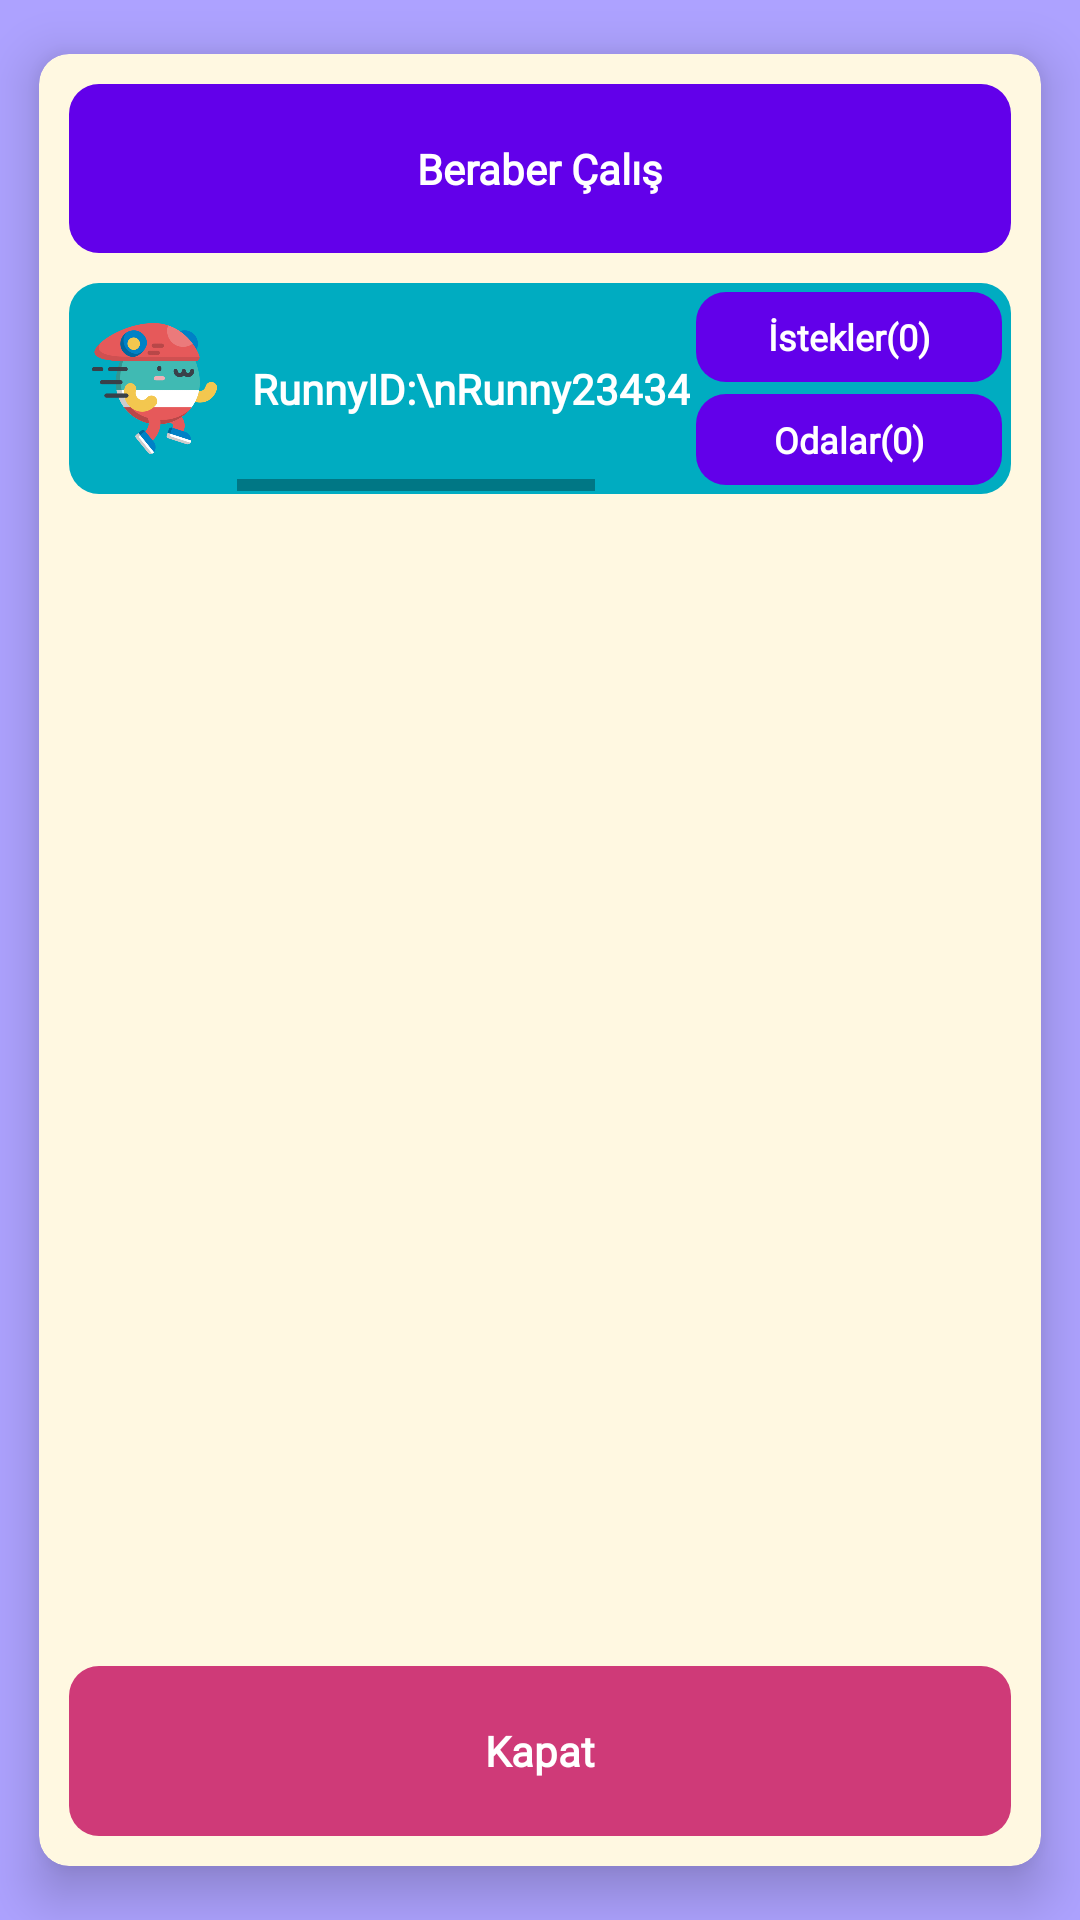

Where icons sit on this 1080px x 1920px app screen, as (x1=x1, y1=y1, x2=x2, y2=y2):
runwords: (x1=92, y1=323, x2=217, y2=454)
